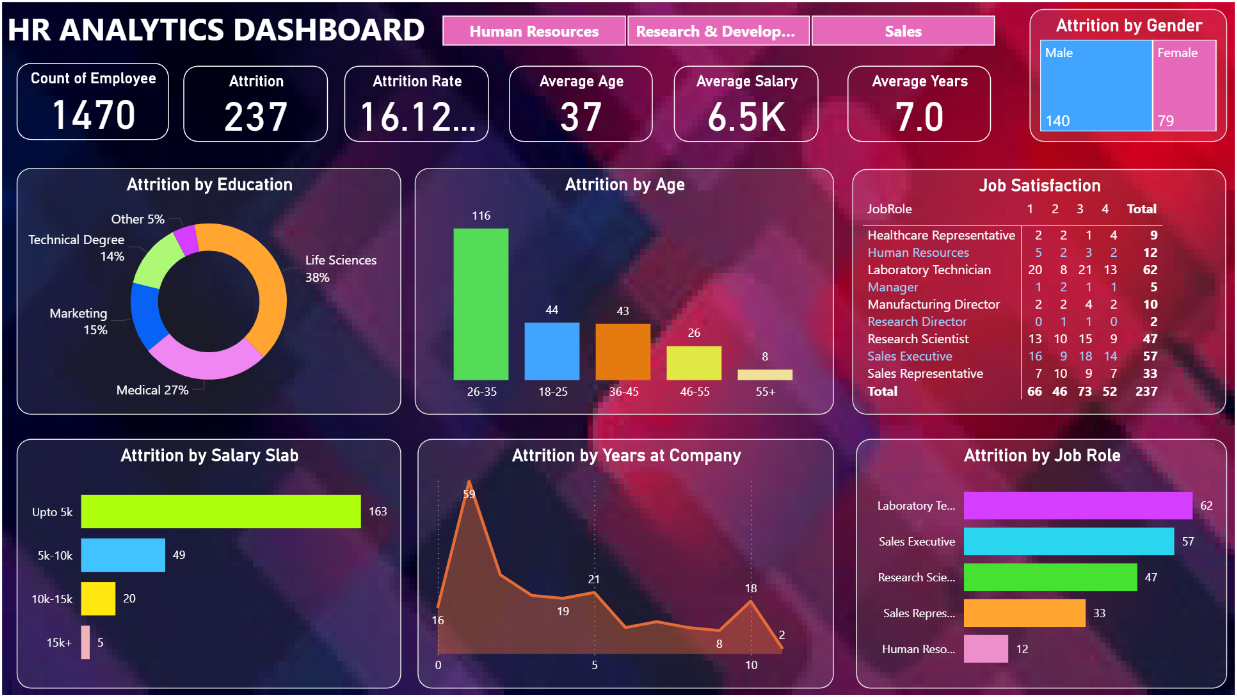

The dashboard page shown, as its layout file describes it:
{"tool":"powerbi","page":{"name":"Page 1","canvas":[1280,720],"ordinal":0},"visuals":[{"type":"card","title":"Count of Employee","fields":{"Values":["CountNonNull(HR_Analytics.EmpID)"]},"box":[15.1,63.1,157.8,79.6],"z":0},{"type":"card","title":"Attrition","fields":{"Values":["Sum(HR_Analytics.AttritionCount)"]},"box":[188,65.9,149.6,79.6],"z":1000},{"type":"card","title":"Attrition Rate","fields":{"Values":["HR_Analytics.AttritionRate"]},"box":[355.4,65.9,149.6,79.6],"z":2000},{"type":"card","title":"Average Age","fields":{"Values":["Avg(HR_Analytics.Age)"]},"box":[525.6,65.9,149.6,79.6],"z":3000},{"type":"card","title":"Average Years","fields":{"Values":["Avg(HR_Analytics.YearsAtCompany)"]},"box":[876.8,65.9,149.6,79.6],"z":4000},{"type":"card","title":"Average Salary","fields":{"Values":["Avg(HR_Analytics.MonthlyIncome)"]},"box":[697.1,65.9,149.6,79.6],"z":5000},{"type":"donutChart","title":"Attrition by Education","fields":{"Category":["HR_Analytics.EducationField"],"Y":["Sum(HR_Analytics.AttritionCount)"]},"box":[15.1,171.5,399.3,256.6],"z":6000},{"type":"columnChart","title":"Attrition by Age","fields":{"Category":["HR_Analytics.AgeGroup"],"Y":["Sum(HR_Analytics.AttritionCount)"]},"box":[428.1,171.5,435,256.6],"z":7000},{"type":"pivotTable","title":"Job Satisfaction","fields":{"Rows":["HR_Analytics.JobRole"],"Values":["Sum(HR_Analytics.AttritionCount)"],"Columns":["HR_Analytics.JobSatisfaction"]},"box":[881.9,172.5,388.5,255.8],"z":8000},{"type":"barChart","title":"Attrition by Salary Slab","fields":{"Category":["HR_Analytics.SalarySlab"],"Y":["Sum(HR_Analytics.AttritionCount)"]},"box":[15.1,452.8,399.3,259.3],"z":9000},{"type":"barChart","title":"Attrition by Job Role","fields":{"Category":["HR_Analytics.JobRole"],"Y":["Sum(HR_Analytics.AttritionCount)"]},"box":[886.5,452.8,384.2,259.3],"z":10000},{"type":"areaChart","title":"Attrition by Years at Company","fields":{"Category":["HR_Analytics.YearsAtCompany"],"Y":["Sum(HR_Analytics.AttritionCount)"]},"box":[430.9,452.8,432.2,259.3],"z":11000},{"type":"treemap","title":"Attrition by Gender","fields":{"Group":["HR_Analytics.Gender"],"Values":["Sum(HR_Analytics.AttritionCount)"]},"box":[1066.2,6.9,204.5,138.6],"z":12000},{"type":"slicer","fields":{"Values":["HR_Analytics.Department"]},"box":[430.7,7.2,623.7,44.6],"z":13000},{"type":"textbox","box":[0,0,474.8,63.1],"z":14000}]}

Visuals, with their boxes in screenshot pixels (x1, y1, x2, y2), scaled from the page's 1280x720 canvas onto the 1237x697 screenshot:
"Count of Employee" card: {"left": 15, "top": 61, "right": 167, "bottom": 138}
"Attrition" card: {"left": 182, "top": 64, "right": 326, "bottom": 141}
"Attrition Rate" card: {"left": 343, "top": 64, "right": 488, "bottom": 141}
"Average Age" card: {"left": 508, "top": 64, "right": 653, "bottom": 141}
"Average Years" card: {"left": 847, "top": 64, "right": 992, "bottom": 141}
"Average Salary" card: {"left": 674, "top": 64, "right": 818, "bottom": 141}
"Attrition by Education" donutChart: {"left": 15, "top": 166, "right": 400, "bottom": 414}
"Attrition by Age" columnChart: {"left": 414, "top": 166, "right": 834, "bottom": 414}
"Job Satisfaction" pivotTable: {"left": 852, "top": 167, "right": 1228, "bottom": 415}
"Attrition by Salary Slab" barChart: {"left": 15, "top": 438, "right": 400, "bottom": 689}
"Attrition by Job Role" barChart: {"left": 857, "top": 438, "right": 1228, "bottom": 689}
"Attrition by Years at Company" areaChart: {"left": 416, "top": 438, "right": 834, "bottom": 689}
"Attrition by Gender" treemap: {"left": 1030, "top": 7, "right": 1228, "bottom": 141}
slicer - HR_Analytics.Department: {"left": 416, "top": 7, "right": 1019, "bottom": 50}
textbox: {"left": 0, "top": 0, "right": 459, "bottom": 61}
